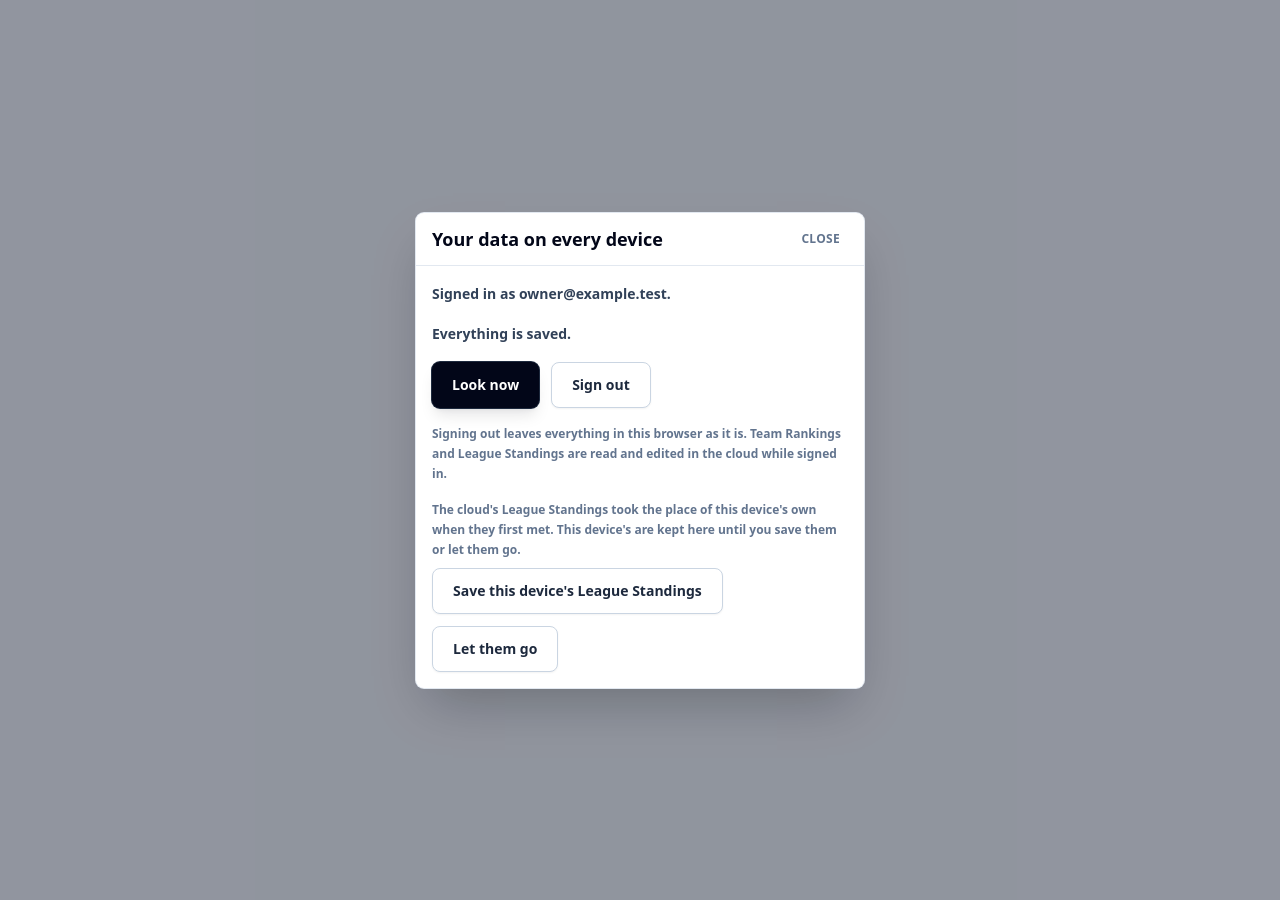
Test: this device's League Standings, displaced at its first meeting (1.6f) › is offered as a file, and forgotten once saved
Click the button "Save this device's League Standings" at (577,590), box [432, 568, 723, 614]
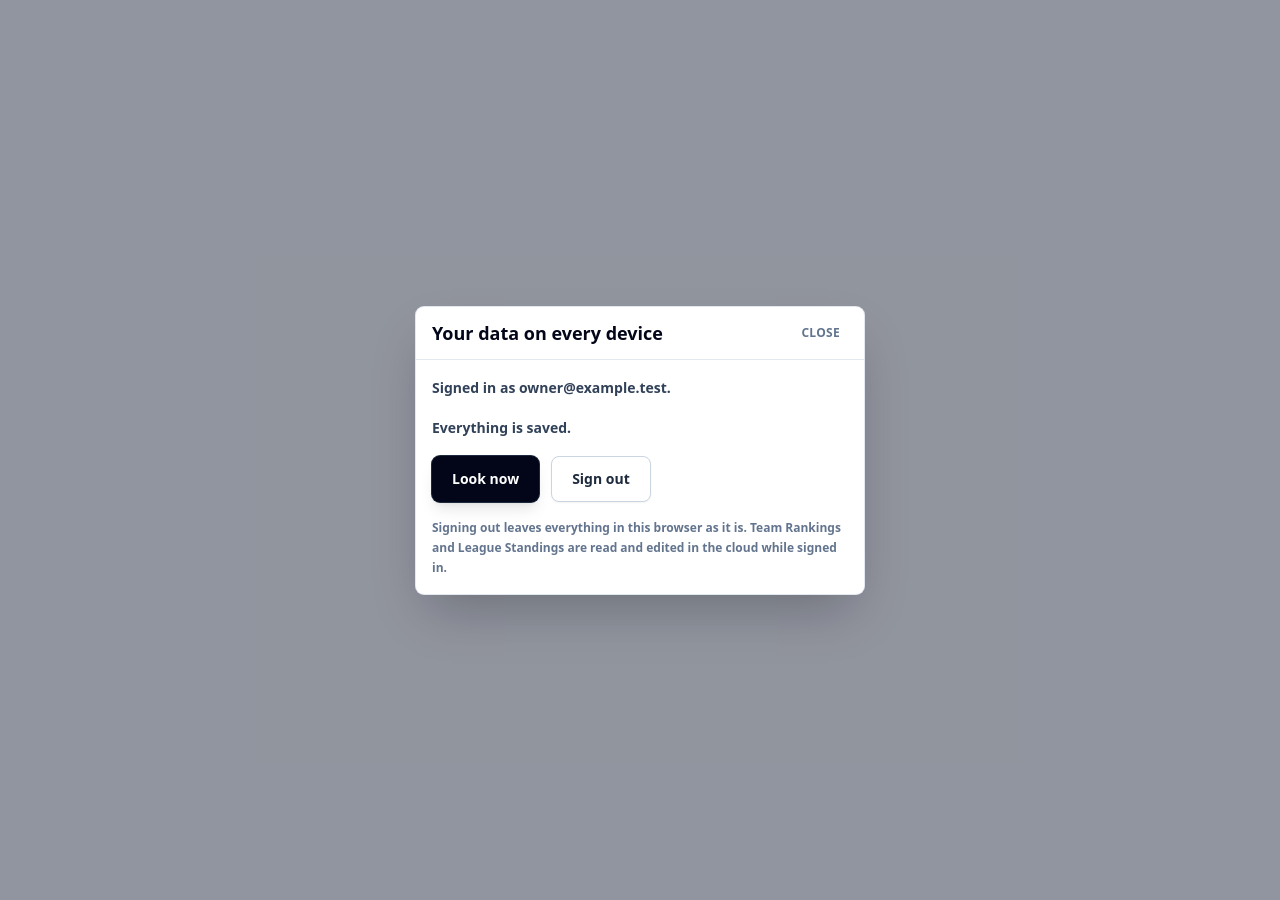
Expected: the button "Save this device's League Standings" is gone
